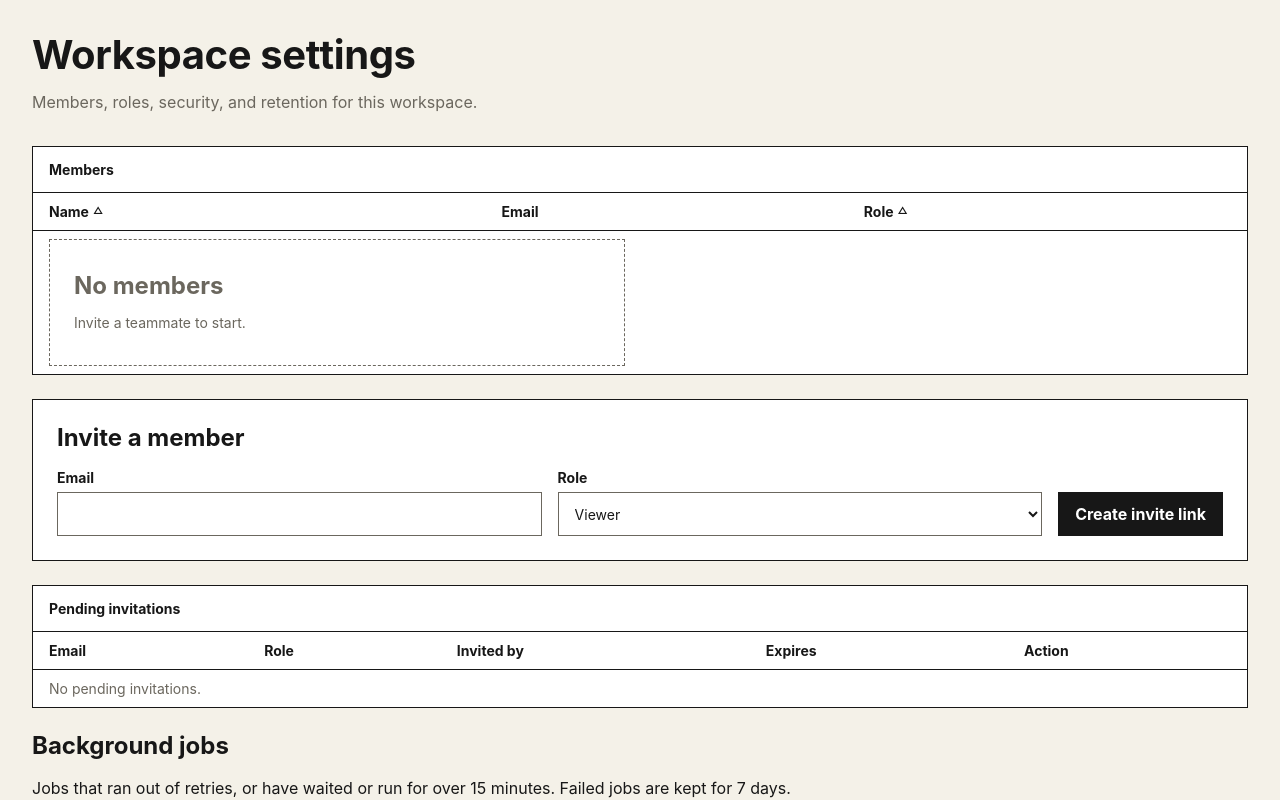
Test: Workspace settings for an admin › creates an invite link and shows it once
This screenshot has width=1280, height=800.
Type "new@team.example" into the field labelled "Email" at [299, 514], box [57,492,542,536]
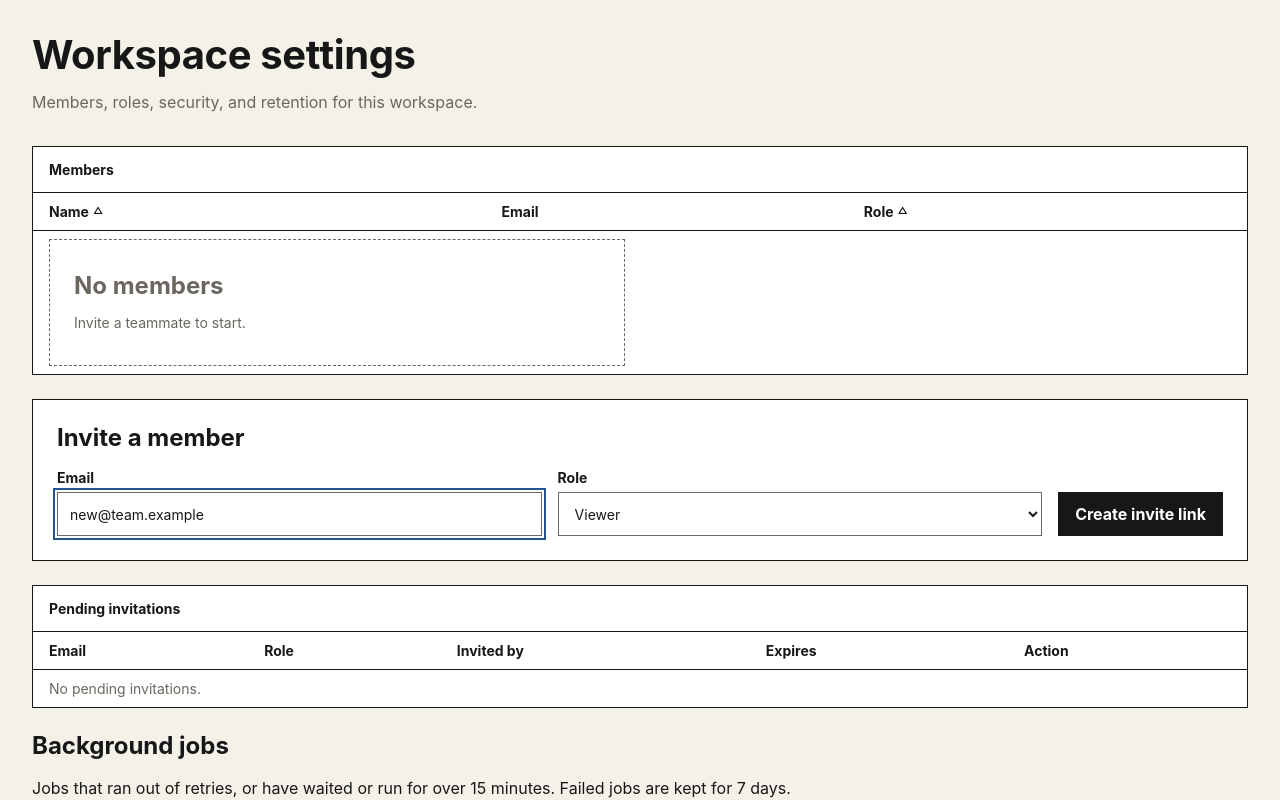
Click the button "Create invite link" at [1141, 514], box [1058,492,1223,536]
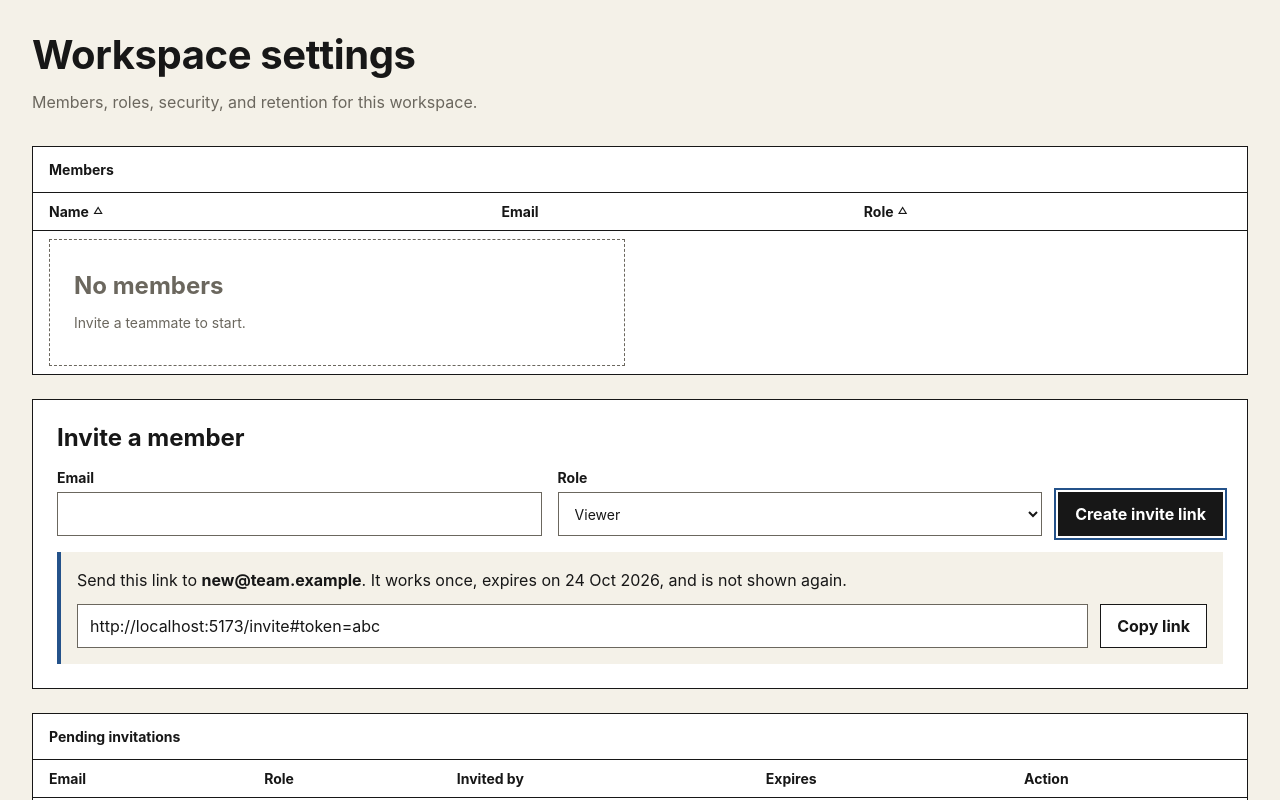
expect the field named "Invite link" holds "http://localhost:5173/invite#token=abc": met, box [77,604,1088,648]
